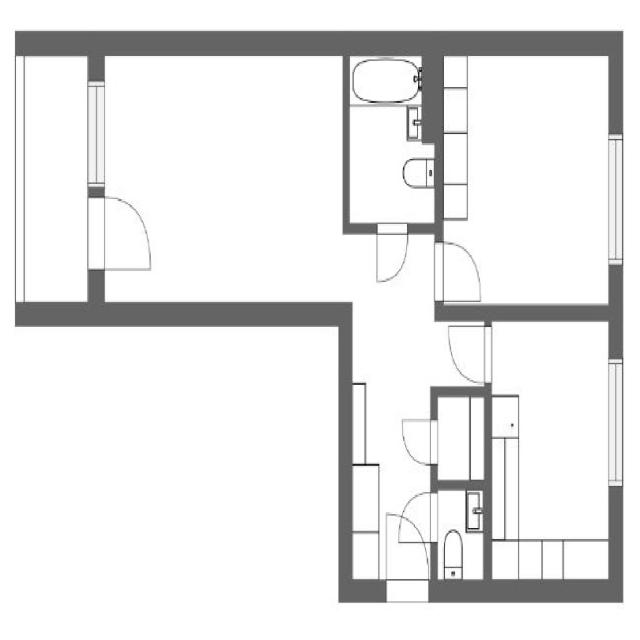door: (94, 185, 160, 279), (431, 230, 488, 306), (442, 315, 494, 387), (388, 489, 436, 562), (396, 409, 444, 473), (370, 218, 412, 290)
window: (600, 128, 630, 278), (602, 347, 630, 501), (82, 71, 111, 196)
zone: (99, 45, 338, 305), (441, 45, 617, 306), (484, 314, 615, 587), (345, 58, 438, 232), (433, 390, 490, 488), (436, 483, 484, 584), (353, 54, 422, 104)
